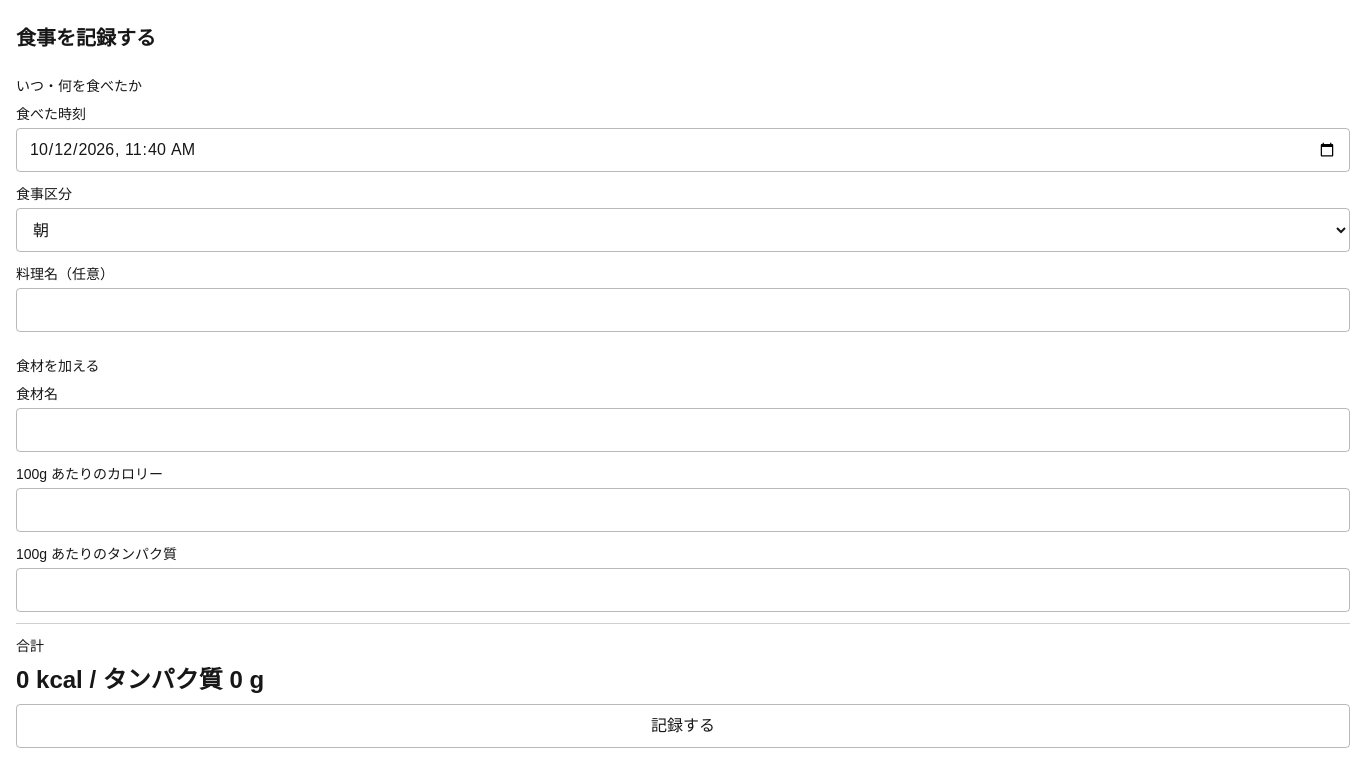
Test: RecordForm › 時刻を変えると食事区分が推定し直される
Replace the text in the field labelled "食べた時刻" with "2026-10-11T19:00" at (683, 150), box [16, 128, 1350, 172]
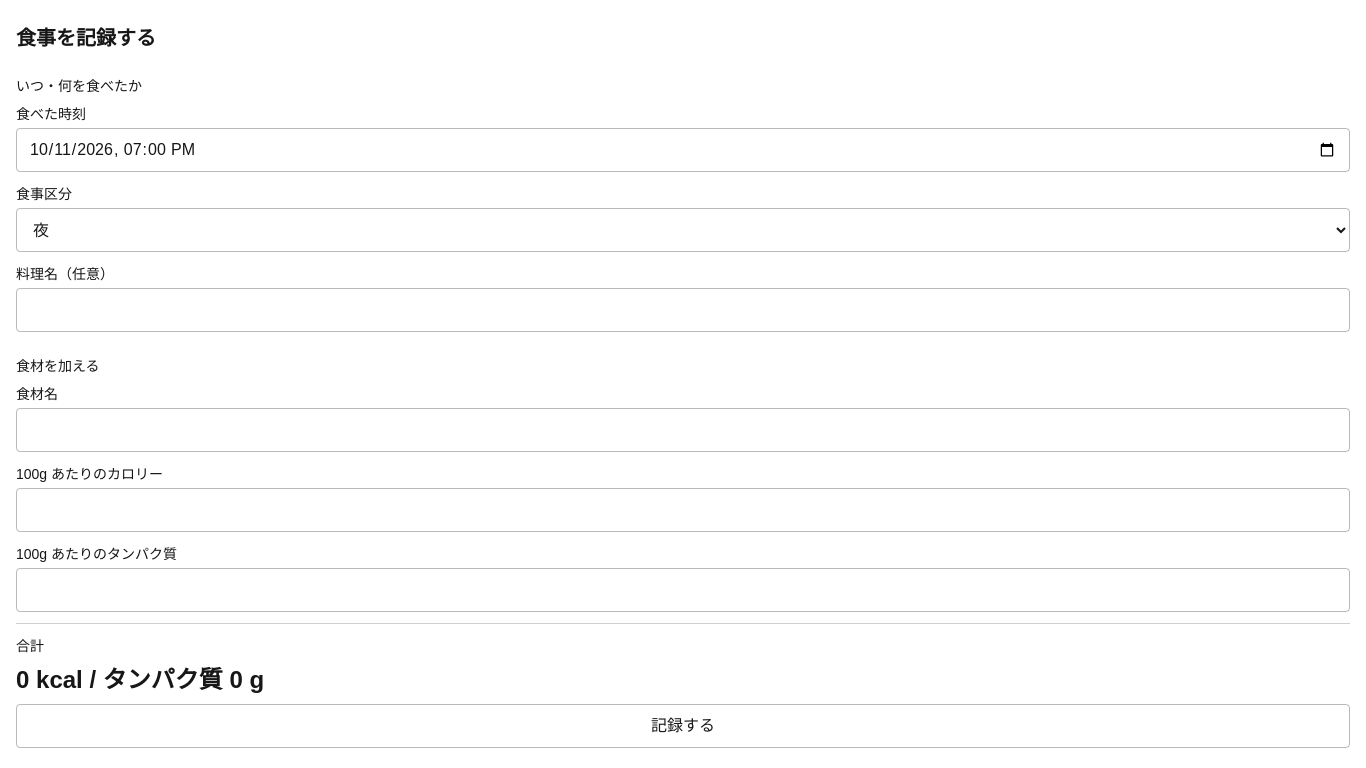
Check: the dropdown labelled "食事区分" shows "夜", box [16, 208, 1350, 252]
Replace the text in the field labelled "食べた時刻" with "2026-10-11T16:30" at (683, 150), box [16, 128, 1350, 172]
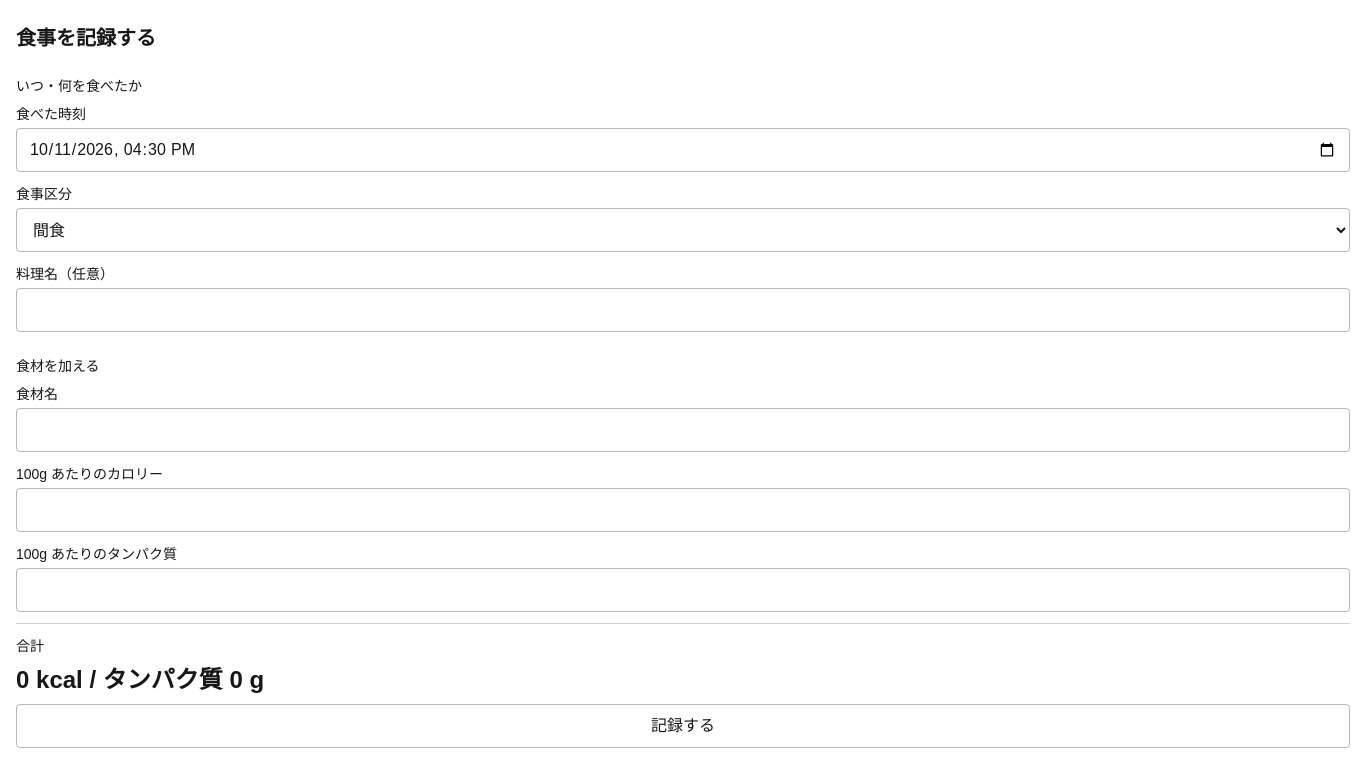
Check: the dropdown labelled "食事区分" shows "間食", box [16, 208, 1350, 252]
